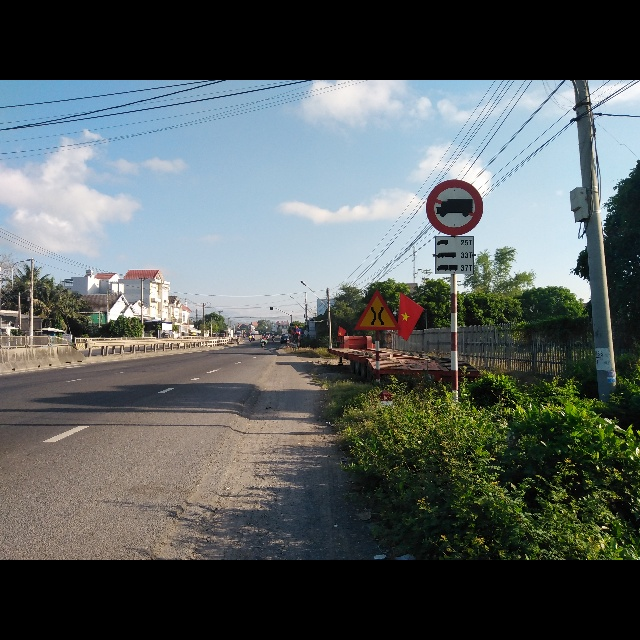Cấm xe tải: (423, 179, 484, 238)
Cầu hẹp: (356, 289, 402, 333)
